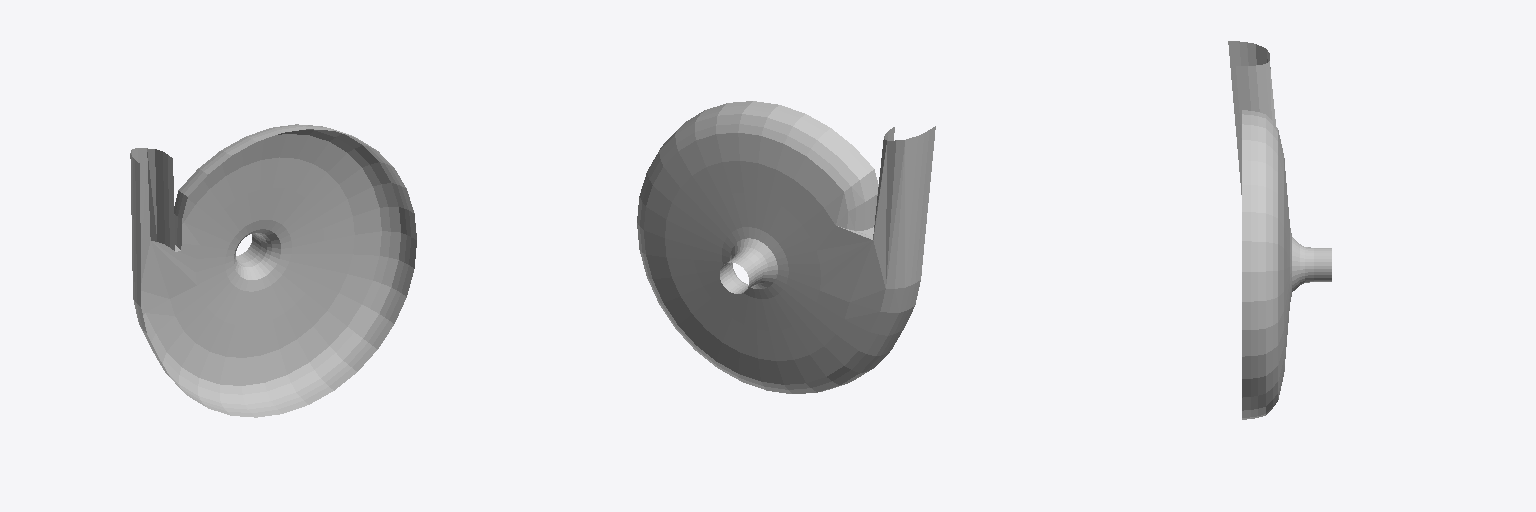
File: spiral_1.obj
The picture shows the model from 3 angles: view 1: azimuth 30°, elevation 25°; view 2: azimuth 150°, elevation 25°; view 3: azimuth 270°, elevation 25°; orthographic projection.
Visible parts, largest first — view 1: Circle.001; view 2: Circle.001; view 3: Circle.001.
Boxes of the visible parts, box(x1,y1,x2,y2) form: Circle.001: box(130, 124, 416, 417); Circle.001: box(637, 101, 935, 393); Circle.001: box(1228, 41, 1331, 419).
Bounding box in the file's own units: 2.11 × 2.07 × 0.6684.